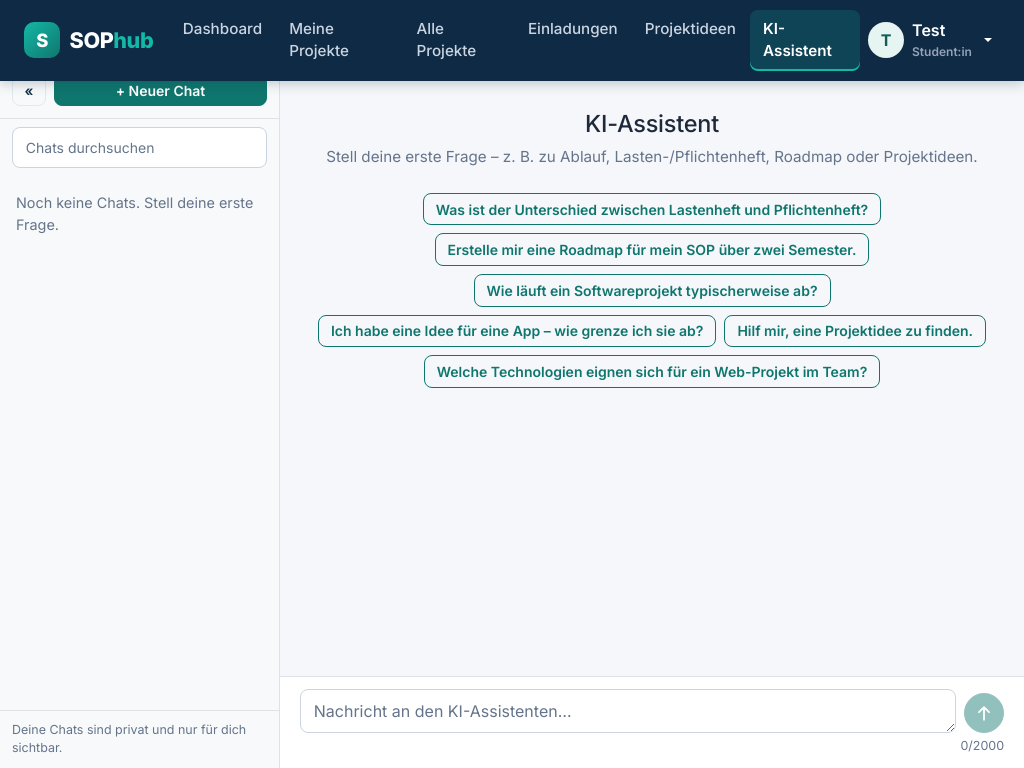
SopAssistent › sendet eine neue Nachricht und zeigt Frage und KI-Antwort an
(page scrolled)
Type "Was ist ein Pflichtenheft?" into the text box labelled "Nachricht" at (628, 711), box [300,690,956,733]
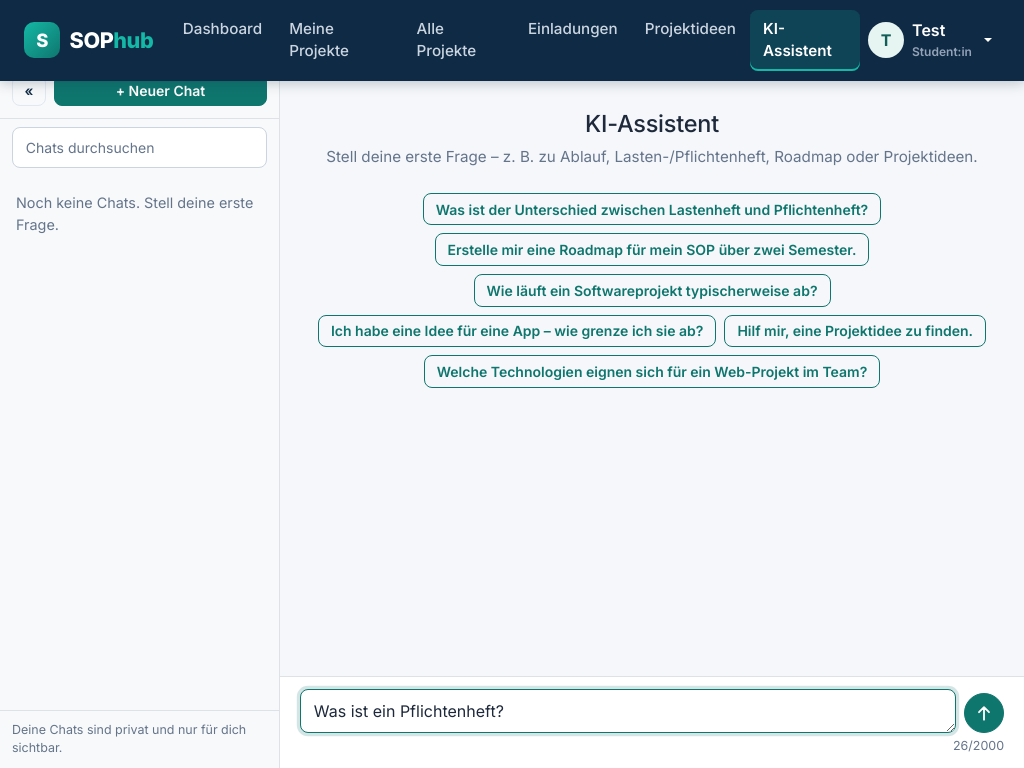
Click the button named "Senden" at (984, 713), box [964,693,1004,733]
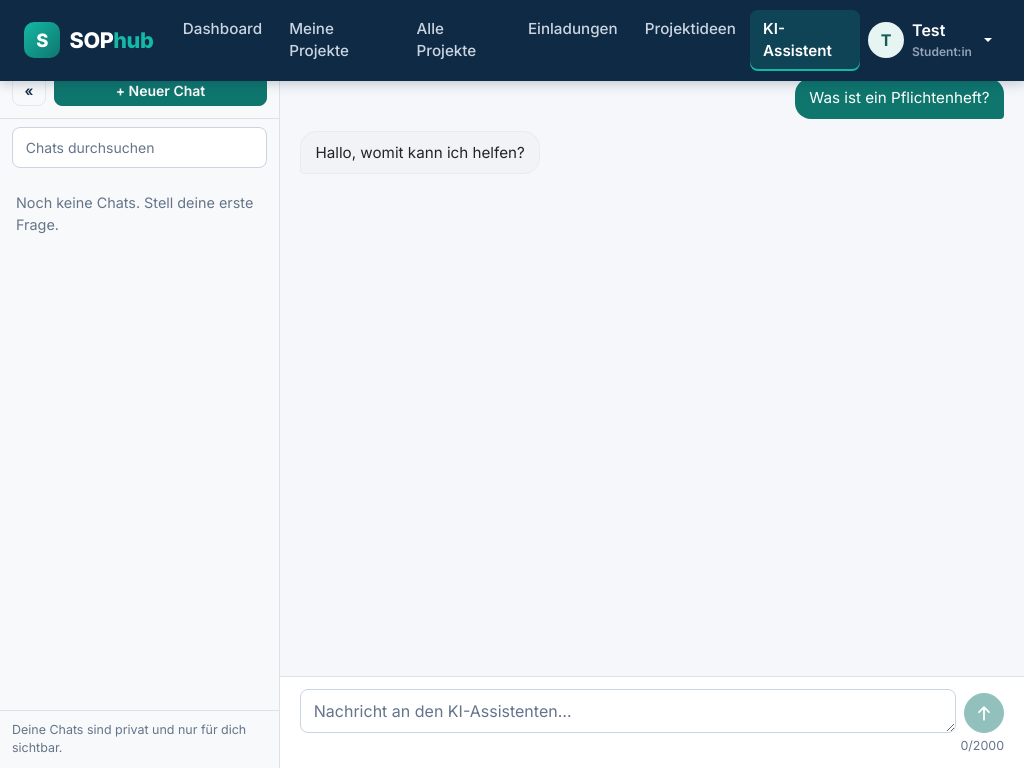
Expected: the text "Was ist ein Pflichtenheft?" is shown, [809,88,990,107]
Expected: the text "Hallo, womit kann ich helfen?" is shown, [315,142,525,164]
